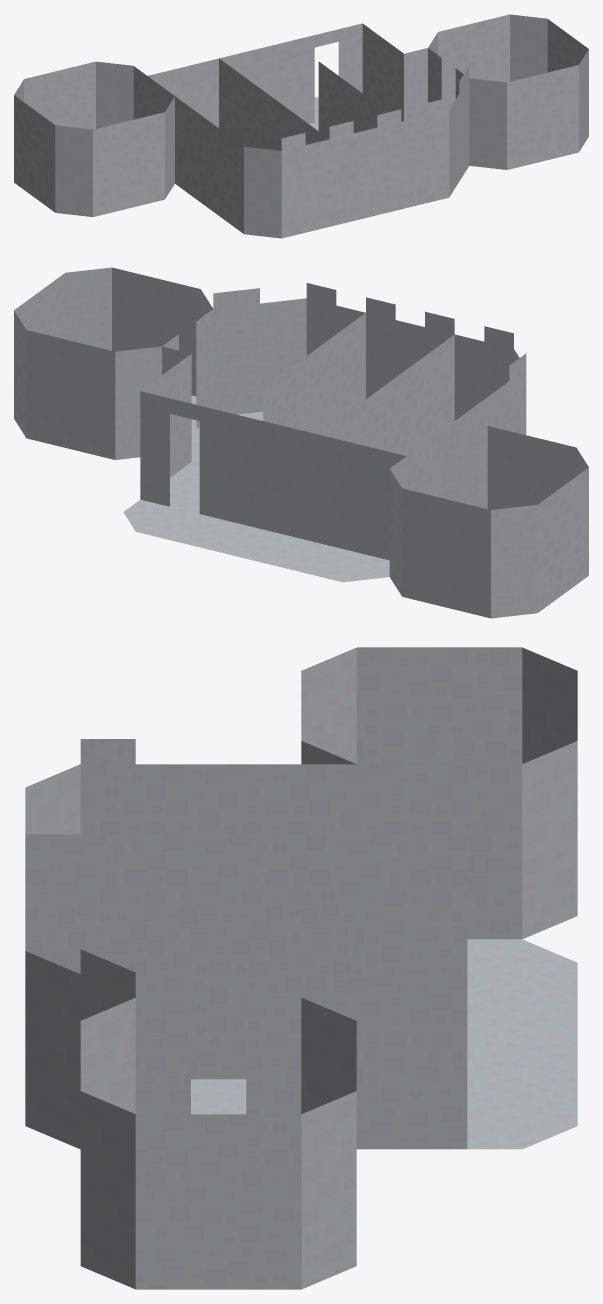
The model's file is building_den_floor1.glb.
The picture shows the model from 3 angles, top to bottom: view 1: azimuth 30°, elevation 25°; view 2: azimuth 150°, elevation 25°; view 3: azimuth 270°, elevation 25°; orthographic projection. The views are drawn at different scales.
Parts seen in each view (by area): view 1: building_den_floor1; view 2: building_den_floor1; view 3: building_den_floor1.
Boxes of the visible parts, x1,y1,x2,y2 form: building_den_floor1: (14,14,588,238); building_den_floor1: (14,267,588,618); building_den_floor1: (25,647,577,1289).
Size of what is drawn, in the model's own units: 20 by 4 by 10.
Materials: 3 (2 with a texture image).
